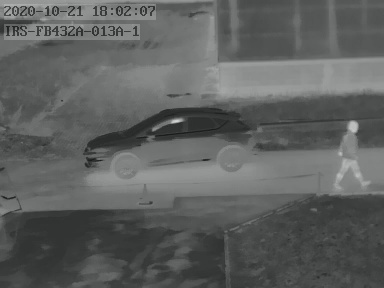person: (332, 120, 370, 190)
vehicle: (74, 108, 256, 180)
